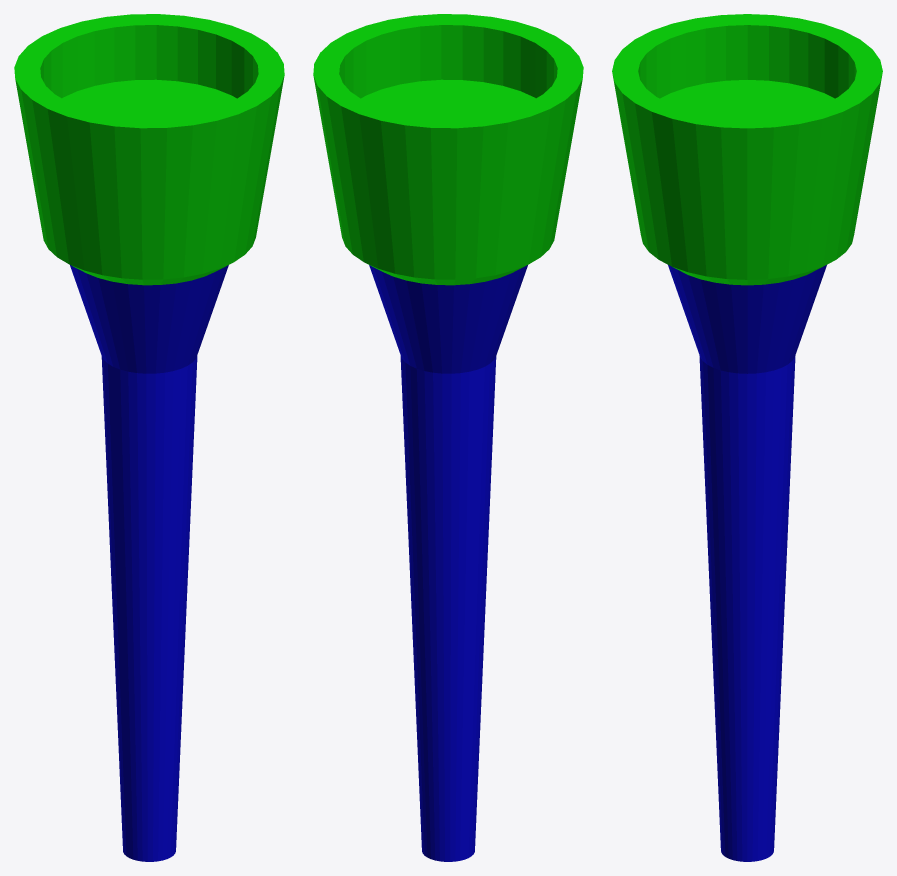
Rendered from torch.glb.
3 views of the same model, side by side, from view 1: azimuth 30°, elevation 25°; view 2: azimuth 150°, elevation 25°; view 3: azimuth 270°, elevation 25° (orthographic).
Visible parts, largest first — view 1: Cylinder; view 2: Cylinder; view 3: Cylinder.
Boxes of the visible parts, left/top/right/bottom form: Cylinder: left=14, top=14, right=284, bottom=861; Cylinder: left=313, top=14, right=583, bottom=861; Cylinder: left=612, top=14, right=882, bottom=861.
Bounding box in the file's own units: 0.3221 × 1.02 × 0.3221.
